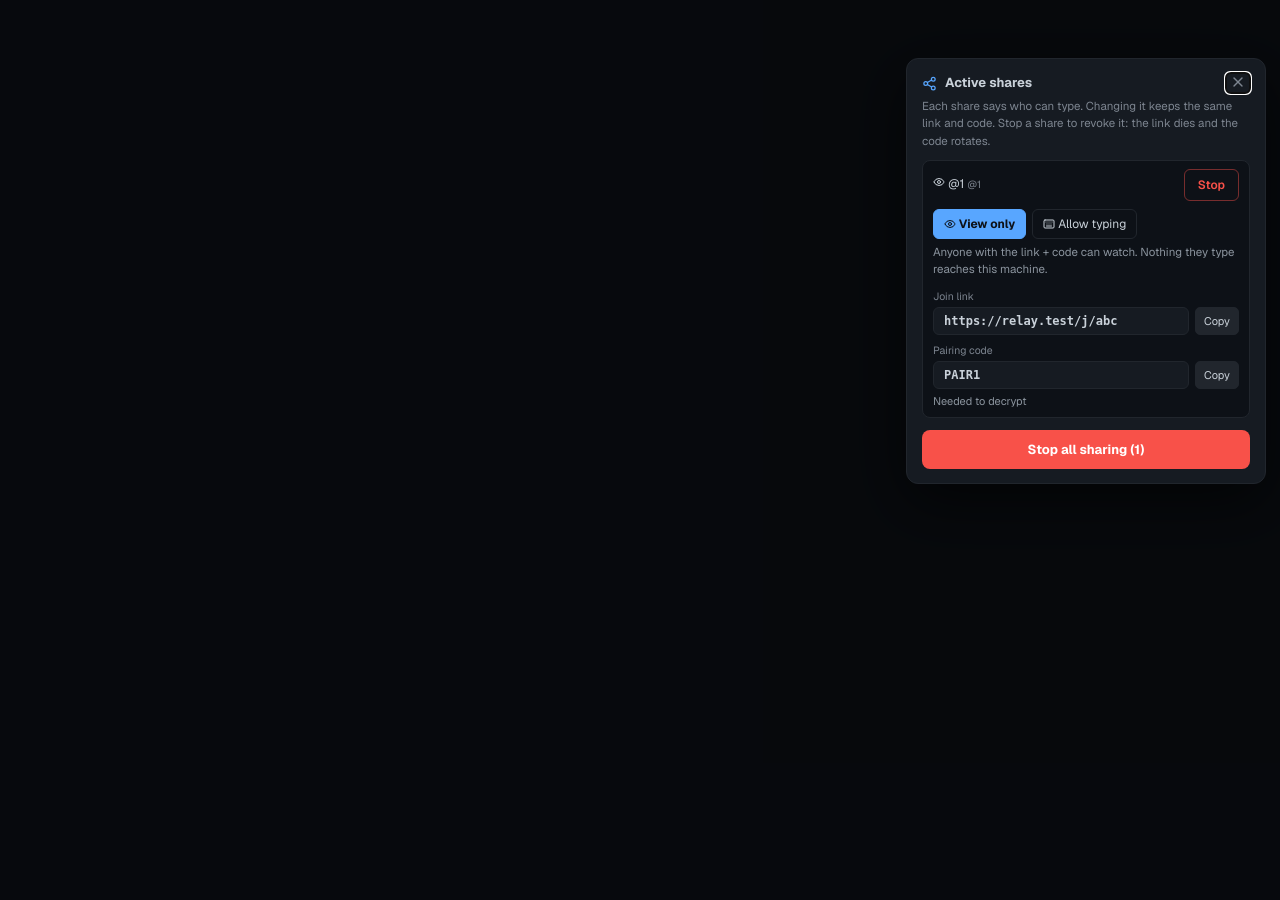
a refused change shows the server's reason and leaves the mode as it was
Click the button "Allow typing" at [1085, 224], box [1032,209,1137,239]
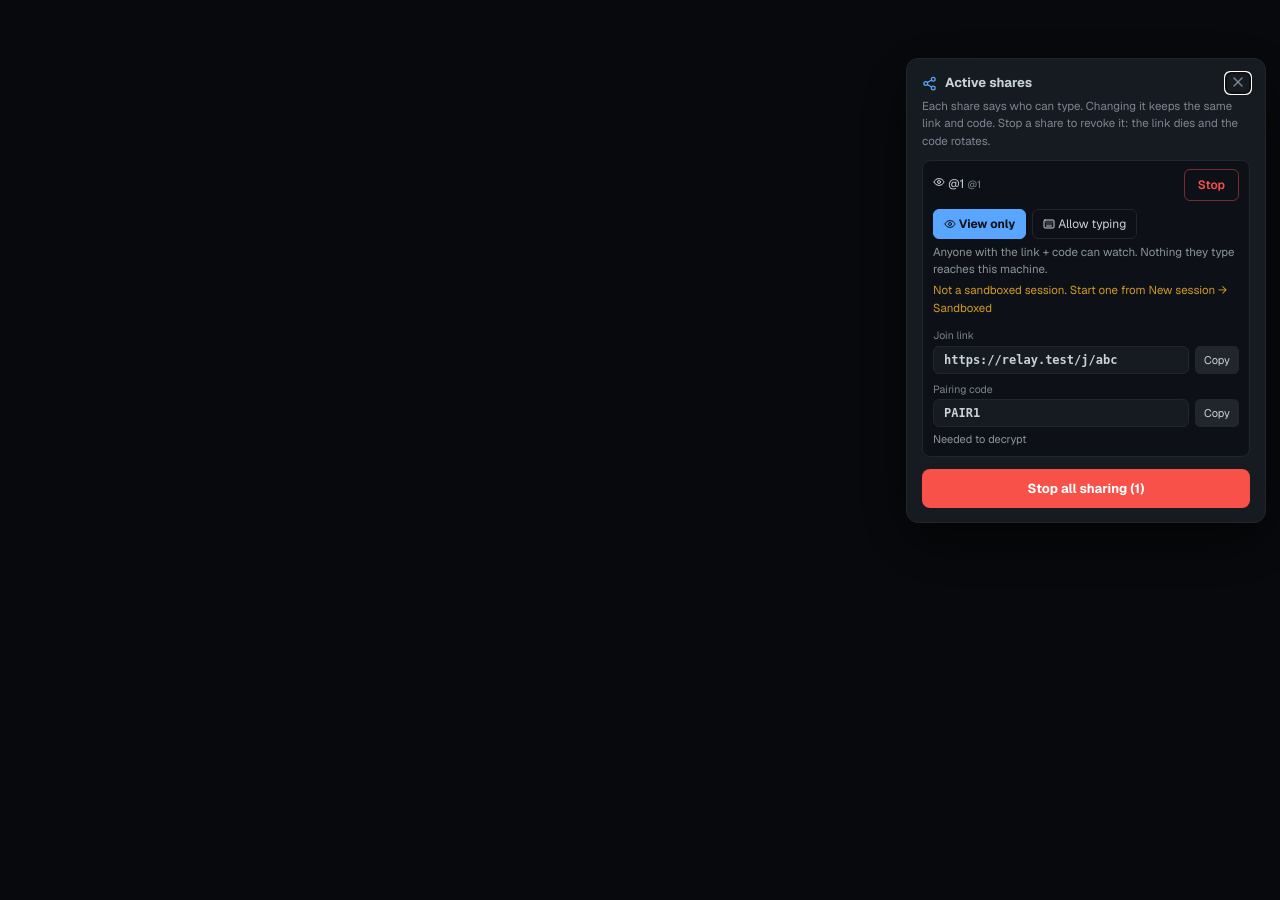
Result: the message reads "Not a sandboxed session. Start one from New session → Sandboxed" at [933,282,1227,315]
